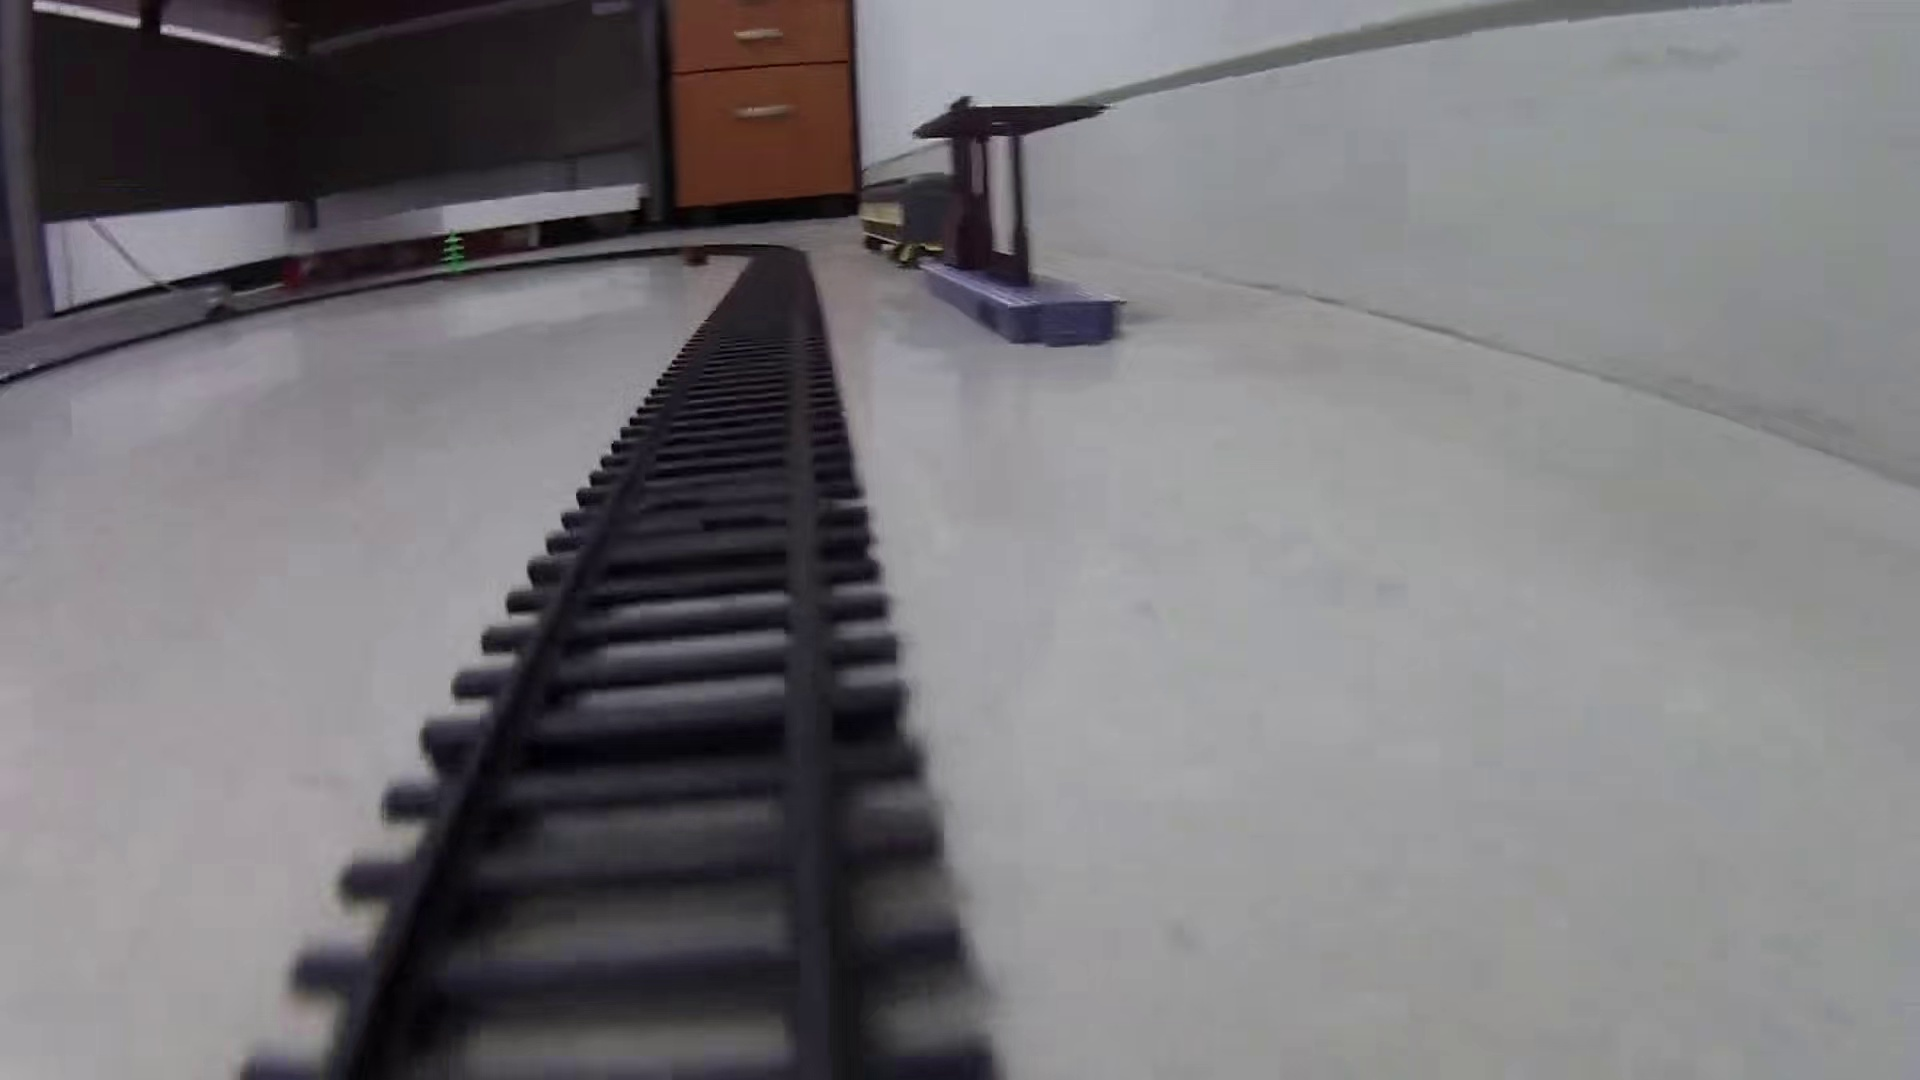box: (681, 248, 710, 271)
tree: (439, 229, 466, 280)
